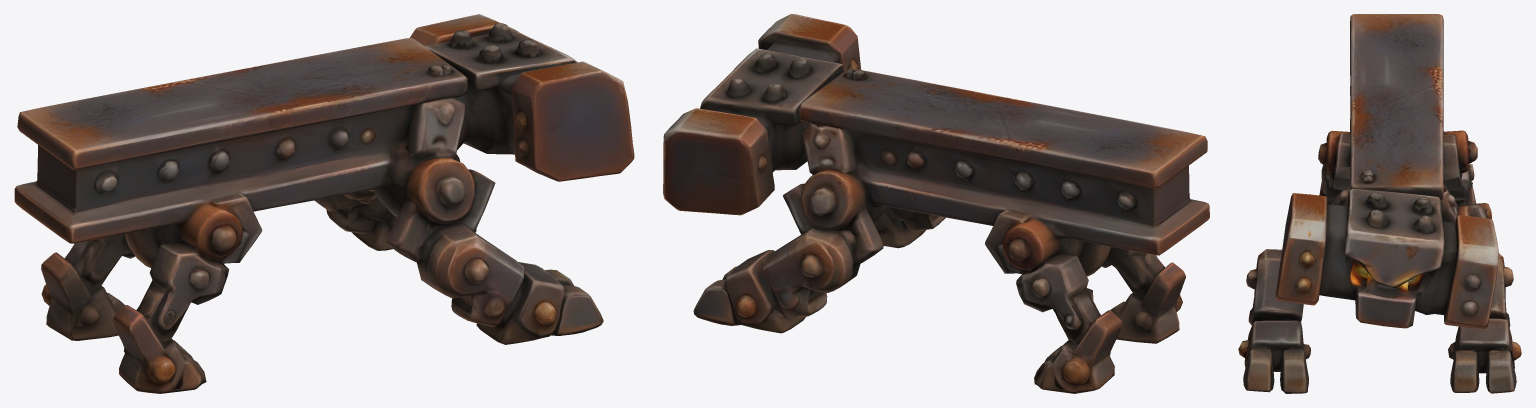
Rendered from Girderon_overworld.glb.
The picture shows the model from 3 angles, left to right: view 1: azimuth 30°, elevation 25°; view 2: azimuth 150°, elevation 25°; view 3: azimuth 270°, elevation 25°; orthographic projection. The views are drawn at different scales.
Parts seen in each view (by area): view 1: tripo_node_0a32ac1d-c170-447b-b692-3961dbbfd380; view 2: tripo_node_0a32ac1d-c170-447b-b692-3961dbbfd380; view 3: tripo_node_0a32ac1d-c170-447b-b692-3961dbbfd380.
Boxes of the visible parts, bbox=[...] form: tripo_node_0a32ac1d-c170-447b-b692-3961dbbfd380: bbox=[14, 14, 634, 393]; tripo_node_0a32ac1d-c170-447b-b692-3961dbbfd380: bbox=[663, 14, 1209, 393]; tripo_node_0a32ac1d-c170-447b-b692-3961dbbfd380: bbox=[1238, 14, 1521, 393].
Size of the model in its own units: 1 by 0.4393 by 0.5733.
Materials: 1 (1 with a texture image).
